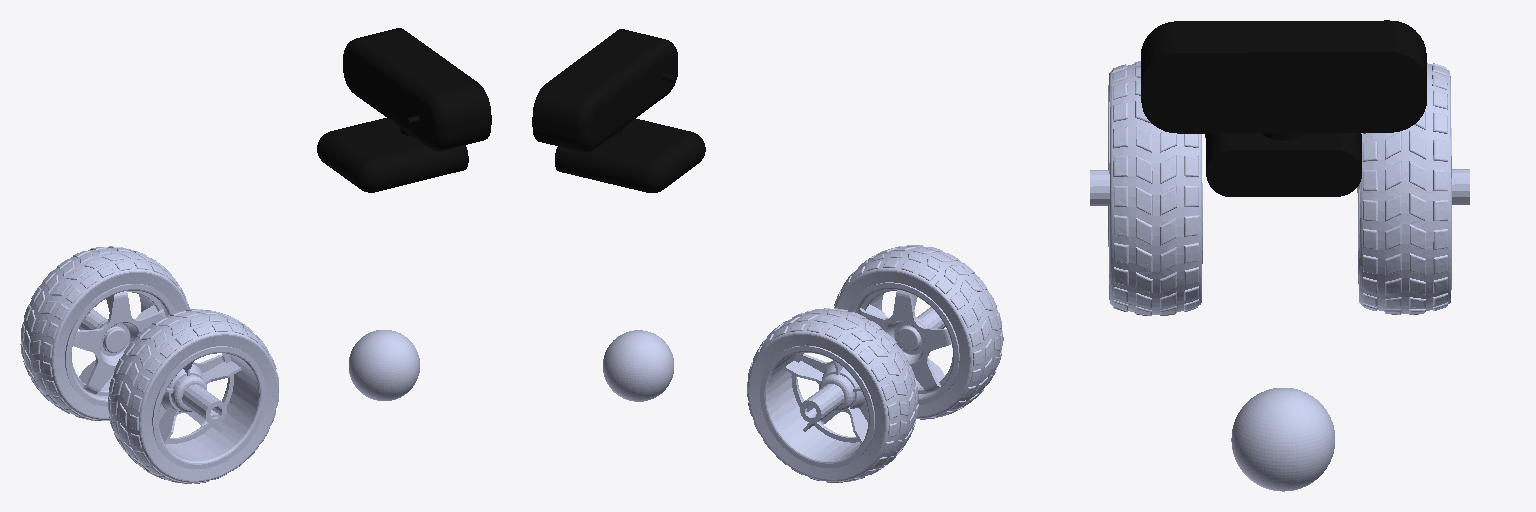
URDF robot description (adobe):
<?xml version="1.0" encoding="utf-8"?>
<!-- This URDF was automatically created by SolidWorks to URDF Exporter! Originally created by [author] ([email redacted]) 
     Commit Version: 1.6.0-4-g7f85cfe  Build Version: 1.6.7995.38578
     For more information, please see http://wiki.ros.org/sw_urdf_exporter -->
<robot
  name="adobe">

  <gazebo>
    <plugin name = "gazebo_ros_control" filename = "libgazebo_ros_control.so">
      <robotNamespace>/adobe</robotNamespace>
    </plugin>
  </gazebo>

  <link name="fixed_link"/>

  <link
    name="base_link">
    <inertial>
      <origin
        xyz="-0.011118 0.00085433 0.051815"
        rpy="0 0 0" />
      <mass
        value="0.61219" />
      <inertia
        ixx="0.00059216"
        ixy="-4.1263E-07"
        ixz="2.2537E-07"
        iyy="0.00063472"
        iyz="3.3453E-08"
        izz="0.0012076" />
    </inertial>
    <visual>
      <origin
        xyz="0 0 0"
        rpy="0 0 0" />
      <geometry>
        <mesh
          filename="package://robot_model/meshes/base_link.STL" />
      </geometry>
      <material
        name="">
        <color
          rgba="0.75294 0.75294 0.75294 1" />
      </material>
    </visual>
    <collision>
      <origin
        xyz="0 0 0"
        rpy="0 0 0" />
      <geometry>
        <mesh
          filename="package://robot_model/meshes/base_link_collision.STL" />
      </geometry>
    </collision>
  </link>

  <gazebo reference = "base_link">
    <kp>100000.0</kp>
    <kd>100000.0</kd>
    <mu1>1</mu1>
    <mu2>0.5</mu2>
  </gazebo>
  <!-- This is the joint description for the fixed link and base -->
  <joint name = "base_joint" type = "fixed">
    <parent link = "fixed_link"/>
    <child link = "base_link"/>
    <origin xyz = "0 0 0" rpy = "0 0 0"/>
  </joint>

  <link
    name="rw_link">
    <inertial>
      <origin
        xyz="1.8588E-08 -1.4083E-09 -0.018127"
        rpy="0 0 0" />
      <mass
        value="0.16695" />
      <inertia
        ixx="6.7296E-05"
        ixy="-2.4757E-11"
        ixz="3.2351E-12"
        iyy="6.7293E-05"
        iyz="-2.5995E-13"
        izz="0.00011321" />
    </inertial>
    <visual>
      <origin
        xyz="0 0 0"
        rpy="0 0 0" />
      <geometry>
        <mesh
          filename="package://robot_model/meshes/rw_link.STL" />
      </geometry>
      <material
        name="">
        <color
          rgba="0.79216 0.81961 0.93333 1" />
      </material>
    </visual>
    <collision>
      <origin
        xyz="0 0 0"
        rpy="0 0 0" />
      <geometry>
        <mesh
          filename="package://robot_model/meshes/rw_link.STL" />
      </geometry>
    </collision>
  </link>

  <gazebo reference = "rw_link">
    <kp>100000.0</kp>
    <kd>100000.0</kd>
    <mu1>10</mu1>
    <mu2>5</mu2>
  </gazebo>
  
  <joint
    name="rw_joint"
    type="continuous">
    <origin
      xyz="-0.031704 -0.05133 0.01125"
      rpy="1.5708 -0.0050356 -3.1329" />
    <parent
      link="base_link" />
    <child
      link="rw_link" />
    <axis
      xyz="0 0 -1" />
  </joint>

  <transmission name = "tran_rw">
    <type>transmission_interface/SimpleTransmission</type>
    <joint name = "rw_joint">
      <hardwareInterface>hardware_interface/VelocityJointInterface</hardwareInterface>
    </joint>
    <actuator name = "motor_rw">
      <hardwareInterface>hardware_interface/VelocityJointInterface</hardwareInterface>
      <mechanicalReduction>1</mechanicalReduction>
    </actuator>
  </transmission>

  <link
    name="lw_link">
    <inertial>
      <origin
        xyz="-6.913E-09 1.7315E-08 0.018127"
        rpy="0 0 0" />
      <mass
        value="0.16695" />
      <inertia
        ixx="6.7293E-05"
        ixy="-1.087E-09"
        ixz="1.2352E-12"
        iyy="6.7296E-05"
        iyz="-2.9544E-12"
        izz="0.00011321" />
    </inertial>
    <visual>
      <origin
        xyz="0 0 0"
        rpy="0 0 0" />
      <geometry>
        <mesh
          filename="package://robot_model/meshes/lw_link.STL" />
      </geometry>
      <material
        name="">
        <color
          rgba="0.79216 0.81961 0.93333 1" />
      </material>
    </visual>
    <collision>
      <origin
        xyz="0 0 0"
        rpy="0 0 0" />
      <geometry>
        <mesh
          filename="package://robot_model/meshes/lw_link.STL" />
      </geometry>
    </collision>
  </link>

  <gazebo reference = "lw_link">
    <kp>100000.0</kp>
    <kd>100000.0</kd>
    <mu1>10</mu1>
    <mu2>5</mu2>
  </gazebo>

  <joint
    name="lw_joint"
    type="continuous">
    <origin
      xyz="-0.032594 0.05077 0.01125"
      rpy="1.5708 -0.0050356 -3.1329" />
    <parent
      link="base_link" />
    <child
      link="lw_link" />
    <axis
      xyz="0 0 -1" />
  </joint>

  <transmission name = "tran_lw">
    <type>transmission_interface/SimpleTransmission</type>
    <joint name = "lw_joint">
      <hardwareInterface>hardware_interface/VelocityJointInterface</hardwareInterface>
    </joint>
    <actuator name = "motor_lw">
      <hardwareInterface>hardware_interface/VelocityJointInterface</hardwareInterface>
      <mechanicalReduction>1</mechanicalReduction>
    </actuator>
  </transmission>

  <link
    name="roll_b_link">
    <inertial>
      <origin
        xyz="0 1.0842E-19 -1.7347E-18"
        rpy="0 0 0" />
      <mass
        value="0.0025724" />
      <inertia
        ixx="7.4344E-08"
        ixy="2.0195E-28"
        ixz="7.294E-26"
        iyy="7.4344E-08"
        iyz="-1.034E-25"
        izz="7.4344E-08" />
    </inertial>
    <visual>
      <origin
        xyz="0 0 0"
        rpy="0 0 0" />
      <geometry>
        <sphere radius = "0.00001"/>
      </geometry>
      <material
        name="">
        <color
          rgba="0.79216 0.81961 0.93333 1" />
      </material>
    </visual>
    
  </link>
  <joint
    name="roll_b_joint"
    type="continuous">
    <origin
      xyz="0.073997 0.00064527 -0.014"
      rpy="0 0 0" />
    <parent
      link="base_link" />
    <child
      link="roll_b_link" />
    <axis
      xyz="-0.99999 0 0.0049784" />
  </joint>
  <link
    name="pitch_b_link">
    <inertial>
      <origin
        xyz="0 1.0842E-19 -1.7347E-18"
        rpy="0 0 0" />
      <mass
        value="0.0025724" />
      <inertia
        ixx="7.4344E-08"
        ixy="2.0195E-28"
        ixz="7.294E-26"
        iyy="7.4344E-08"
        iyz="-1.034E-25"
        izz="7.4344E-08" />
    </inertial>
    <visual>
      <origin
        xyz="0 0 0"
        rpy="0 0 0" />
      <geometry>
        <sphere radius = "0.00001"/>
      </geometry>
      <material
        name="">
        <color
          rgba="0.79216 0.81961 0.93333 1" />
      </material>
    </visual>
  </link>
  <joint
    name="pitch_b_joint"
    type="continuous">
    <origin
      xyz="0 0 0"
      rpy="0 0 0" />
    <parent
      link="roll_b_link" />
    <child
      link="pitch_b_link" />
    <axis
      xyz="-3.2736E-05 0.99998 -0.0065754" />
  </joint>

  

  <link
    name="yaw_b_link">
    <inertial>
      <origin
        xyz="0 1.0842E-19 -1.7347E-18"
        rpy="0 0 0" />
      <mass
        value="0.0025724" />
      <inertia
        ixx="7.4344E-08"
        ixy="2.0195E-28"
        ixz="7.294E-26"
        iyy="7.4344E-08"
        iyz="-1.034E-25"
        izz="7.4344E-08" />
    </inertial>
    <visual>
      <origin
        xyz="0 0 0"
        rpy="0 0 0" />
      <geometry>
        <mesh
          filename="package://robot_model/meshes/b_link.STL" />
      </geometry>
      <material
        name="">
        <color
          rgba="0.79216 0.81961 0.93333 1" />
      </material>
    </visual>
    <collision>
      <origin
        xyz="0 0 0"
        rpy="0 0 0" />
      <geometry>
        <mesh
          filename="package://robot_model/meshes/b_link.STL" />
      </geometry>
    </collision>
  </link>

  <gazebo reference = "yaw_b_link">
    <kp>100000.0</kp>
    <kd>100000.0</kd>
    <mu1>10</mu1>
    <mu2>5</mu2>
  </gazebo>

  <joint
    name="yaw_b_joint"
    type="continuous">
    <origin
      xyz="0 0 0"
      rpy="0 0 0" />
    <parent
      link="pitch_b_link" />
    <child
      link="yaw_b_link" />
    <axis
      xyz="0.0049783 0.0065755 0.99997" />
  </joint>

  <gazebo>
    <plugin name="joint_state_publisher" filename="libgazebo_ros_joint_state_publisher.so">
      <jointName>roll_b_joint,pitch_b_joint,yaw_b_joint</jointName>
    </plugin>
  </gazebo>

  <!-- camera  -->
  <link
    name="camera_link">
    <inertial>
      <origin
        xyz="-0.015796 -0.00014623 -0.0089908"
        rpy="0 0 0" />
      <mass
        value="0.094471" />
      <inertia
        ixx="4.6689E-05"
        ixy="1.6199E-07"
        ixz="-5.7183E-06"
        iyy="2.713E-05"
        iyz="-4.2658E-08"
        izz="4.234E-05" />
    </inertial>
    <visual>
      <origin
        xyz="0 0 0"
        rpy="0 0 0" />
      <geometry>
        <mesh
          filename="package://robot_model/meshes/camera_link.STL" />
      </geometry>
      <material
        name="">
        <color
          rgba="0.10196 0.10196 0.10196 1" />
      </material>
    </visual>
    <collision>
      <origin
        xyz="0 0 0"
        rpy="0 0 0" />
      <geometry>
        <mesh
          filename="package://robot_model/meshes/camera_link.STL" />
      </geometry>
    </collision>
  </link>

  <gazebo reference="camera_link">
    <sensor type="camera" name="usb_cam">
      <update_rate>15.0</update_rate>
      <camera name="head">

          <pose>0 0 0 0 0 0</pose>

        <horizontal_fov>1.3962634</horizontal_fov>
        <image>
          <width>400</width>
          <height>400</height>
          <format>R8G8B8</format>
        </image>
        <clip>
          <near>0.01</near>
          <far>100</far>
        </clip>
        <noise>
          <type>gaussian</type>
          <stddev>0.007</stddev>
        </noise>
      </camera>
      <plugin name="camera_controller" filename="libgazebo_ros_camera.so">
        <alwaysOn>true</alwaysOn>
        <updateRate>0.0</updateRate>
        <cameraName>adobe/usb_cam</cameraName>
        <imageTopicName>image_raw</imageTopicName>
        <cameraInfoTopicName>camera_info</cameraInfoTopicName>
        <frameName>camera_link</frameName>
        <hackBaseline>0.07</hackBaseline>
        <distortionK1>0.0</distortionK1>
        <distortionK2>0.0</distortionK2>
        <distortionK3>0.0</distortionK3>
        <distortionT1>0.0</distortionT1>
        <distortionT2>0.0</distortionT2>
      </plugin>
    </sensor>
  </gazebo>

  <joint
    name="camera_joint"
    type="fixed">
    <origin
      xyz="0.099844 0.00087066 0.101"
      rpy="0 0 0" />
    <parent
      link="base_link" />
    <child
      link="camera_link" />
    <axis
      xyz="0 0 0" />
  </joint>

  <link
    name="lidar_link">
    <inertial>
      <origin
        xyz="0.012054 -0.00042336 -0.028765"
        rpy="0 0 0" />
      <mass
        value="0.073082" />
      <inertia
        ixx="1.9582E-05"
        ixy="-1.4369E-07"
        ixz="-4.2842E-07"
        iyy="2.4124E-05"
        iyz="5.6523E-09"
        izz="4.1419E-05" />
    </inertial>
    <visual>
      <origin
        xyz="0 0 0"
        rpy="0 0 0" />
      <geometry>
        <mesh
          filename="package://robot_model/meshes/lidar_link.STL" />
      </geometry>
      <material
        name="">
        <color
          rgba="0.75294 0.75294 0.75294 1" />
      </material>
    </visual>
    <collision>
      <origin
        xyz="0 0 0"
        rpy="0 0 0" />
      <geometry>
        <mesh
          filename="package://robot_model/meshes/lidar_link.STL" />
      </geometry>
    </collision>
  </link>

  <gazebo reference = "lidar_link">
    <kp>100000.0</kp>
    <kd>100000.0</kd>
    <mu1>10.0</mu1>
    <mu2>10.0</mu2>
  </gazebo>

  <joint
    name="lidar_joint"
    type="fixed">
    <origin
      xyz="1.037E-05 0 0.1865"
      rpy="0 0 0" />
    <parent
      link="base_link" />
    <child
      link="lidar_link" />
    <axis
      xyz="0 0 0" />
  </joint>
</robot>

--- Render facts (derived) ---
Views: 3 orthographic renders of the robot side by side, from view 1: azimuth 30°, elevation 25°; view 2: azimuth 150°, elevation 25°; view 3: azimuth 270°, elevation 25°.
Model adobe with 9 links and 8 joints (5 continuous, 3 fixed), rooted at fixed_link, posed every joint at zero.
Links seen in each view (by area): view 1: rw_link, camera_link, lw_link, yaw_b_link; view 2: lw_link, camera_link, rw_link, yaw_b_link; view 3: camera_link, rw_link, lw_link, yaw_b_link.
Boxes of the visible links, bbox=[...] form: rw_link: bbox=[108, 309, 278, 483]; camera_link: bbox=[317, 28, 491, 192]; lw_link: bbox=[20, 246, 189, 420]; yaw_b_link: bbox=[349, 330, 419, 400]; lw_link: bbox=[747, 308, 918, 482]; camera_link: bbox=[532, 29, 705, 192]; rw_link: bbox=[834, 245, 1003, 419]; yaw_b_link: bbox=[603, 330, 673, 401]; camera_link: bbox=[1141, 20, 1426, 196]; rw_link: bbox=[1090, 61, 1202, 315]; lw_link: bbox=[1357, 63, 1469, 314]; yaw_b_link: bbox=[1231, 388, 1334, 491].
Bounding box of the posed robot: 0.1671 × 0.1022 × 0.141 m (x, y, z).
Meshes: 6 distinct files referenced, 4 mesh visuals loaded (4 binary STL); not drawn: 2 (reference not matched to a file when rendering).